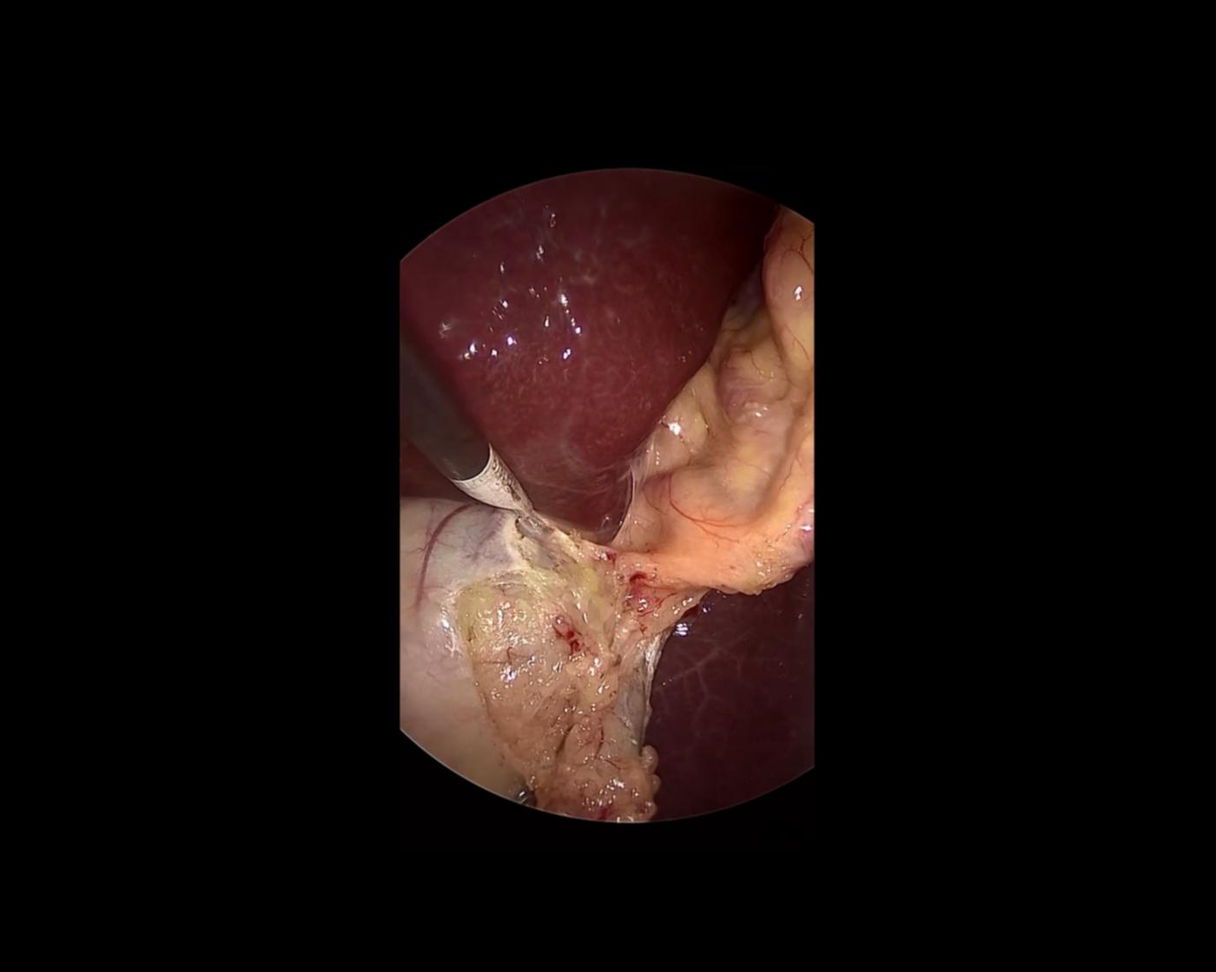Cautery: (347, 317, 546, 558)
Gallbladder: (402, 495, 664, 818)
Liver: (325, 59, 789, 553), (645, 559, 816, 821)
